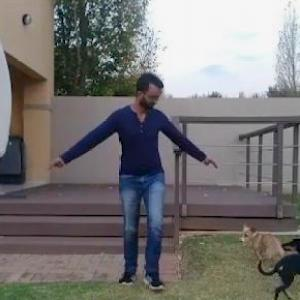land: (37, 75, 213, 288)
